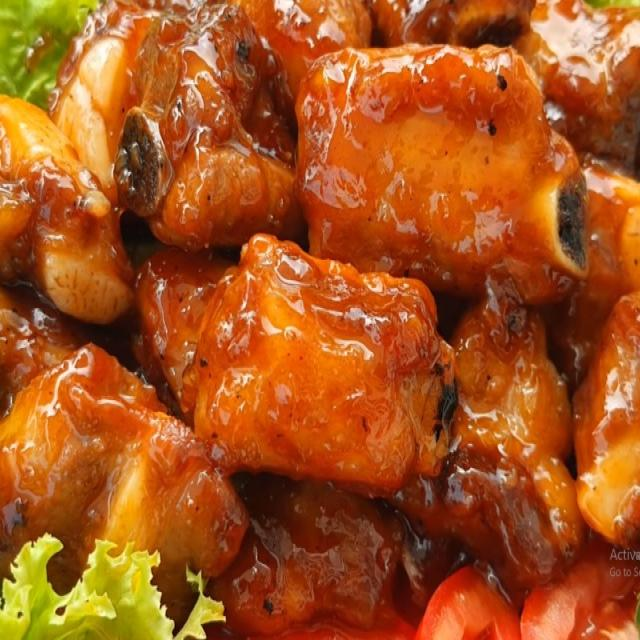suon xao: (0, 0, 639, 636)
